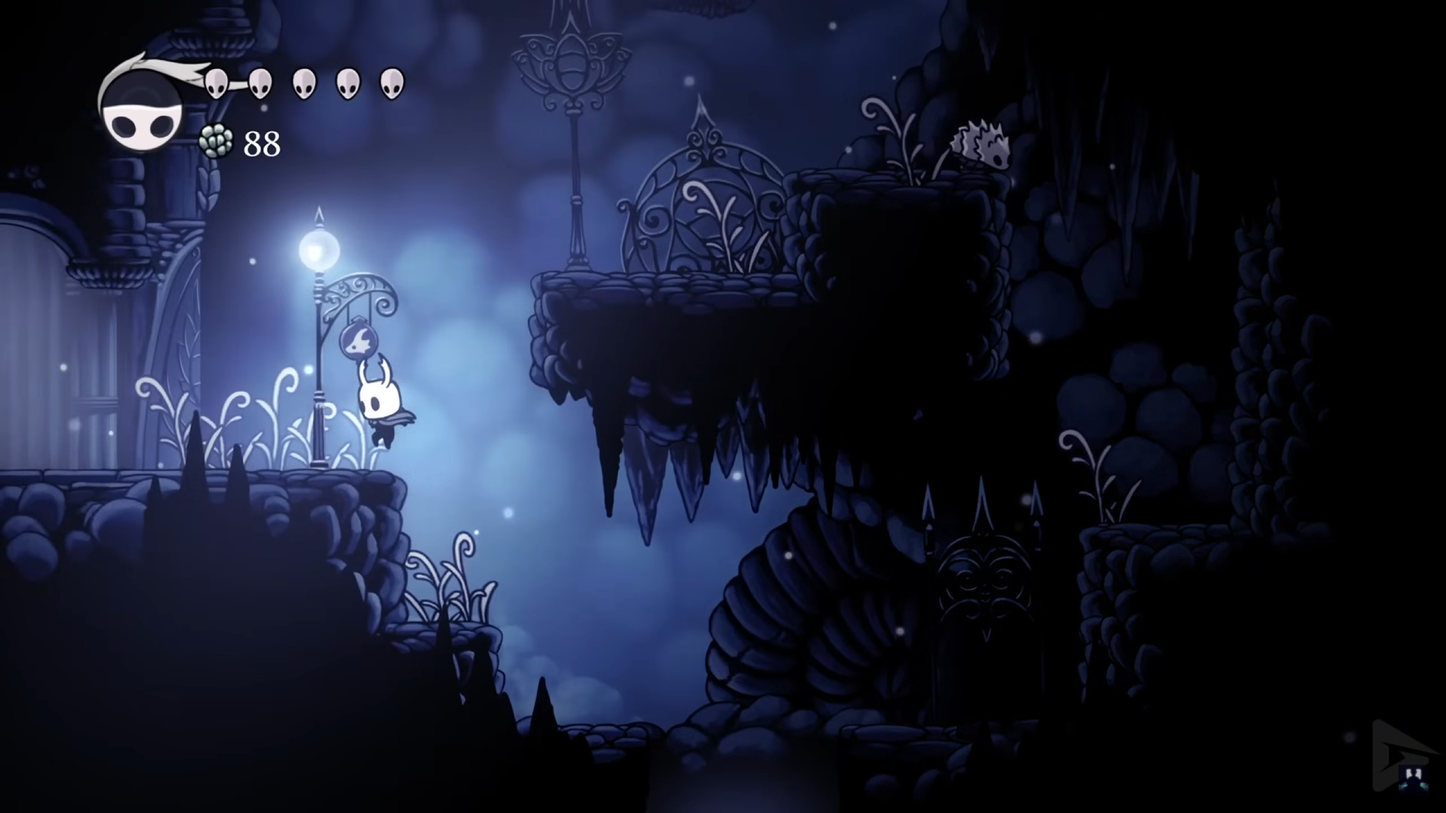HK: (354, 353, 411, 454)
